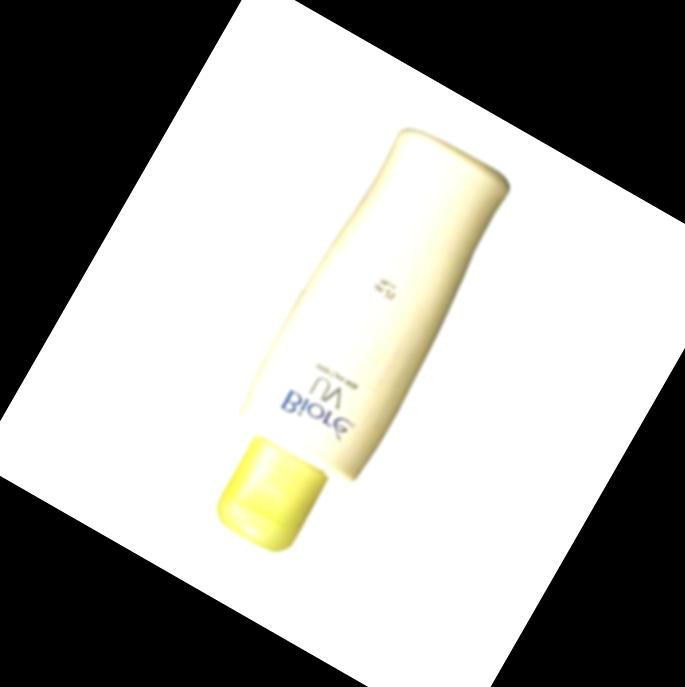cosmetic: (178, 116, 526, 576)
